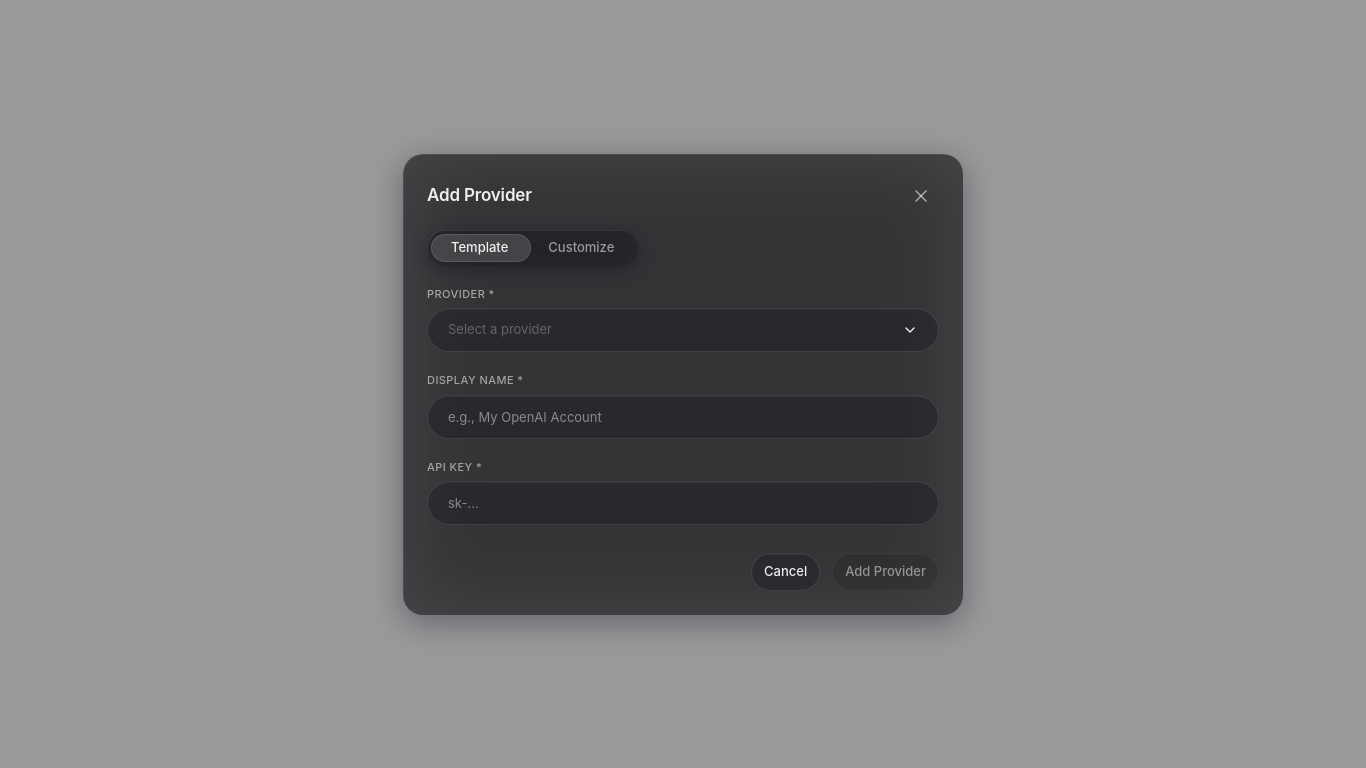
it: AddProviderModal › Provider dropdown › should display available providers after loading
Check: the text "Select a provider" is shown, box left=448, top=320, right=552, bottom=340
Click to open dropdown
Click the button named "Provider *": coordinates (500, 329) left=427, top=308, right=939, bottom=352
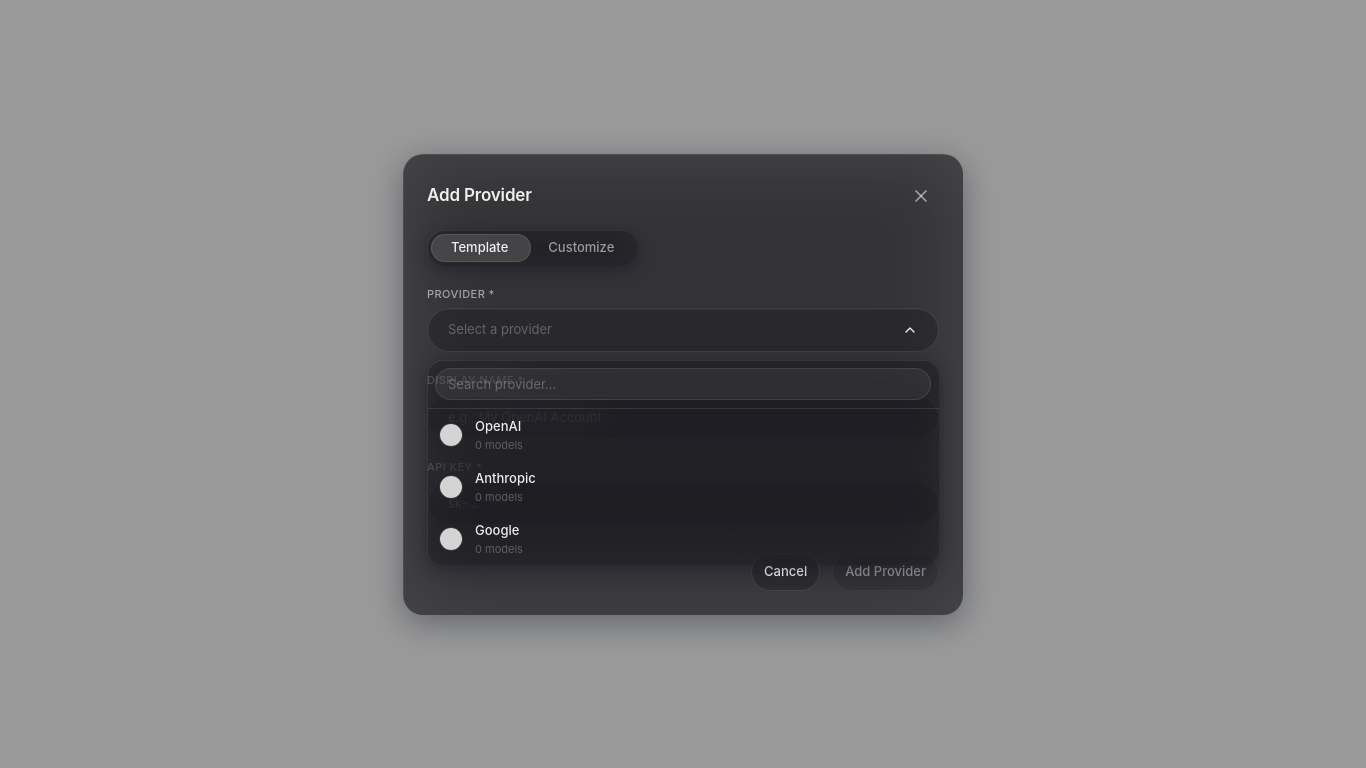
Check: the text "OpenAI" is shown, box left=475, top=418, right=521, bottom=434
Check: the text "Anthropic" is shown, box left=475, top=470, right=536, bottom=486
Check: the text "Google" is shown, box left=475, top=522, right=519, bottom=538
